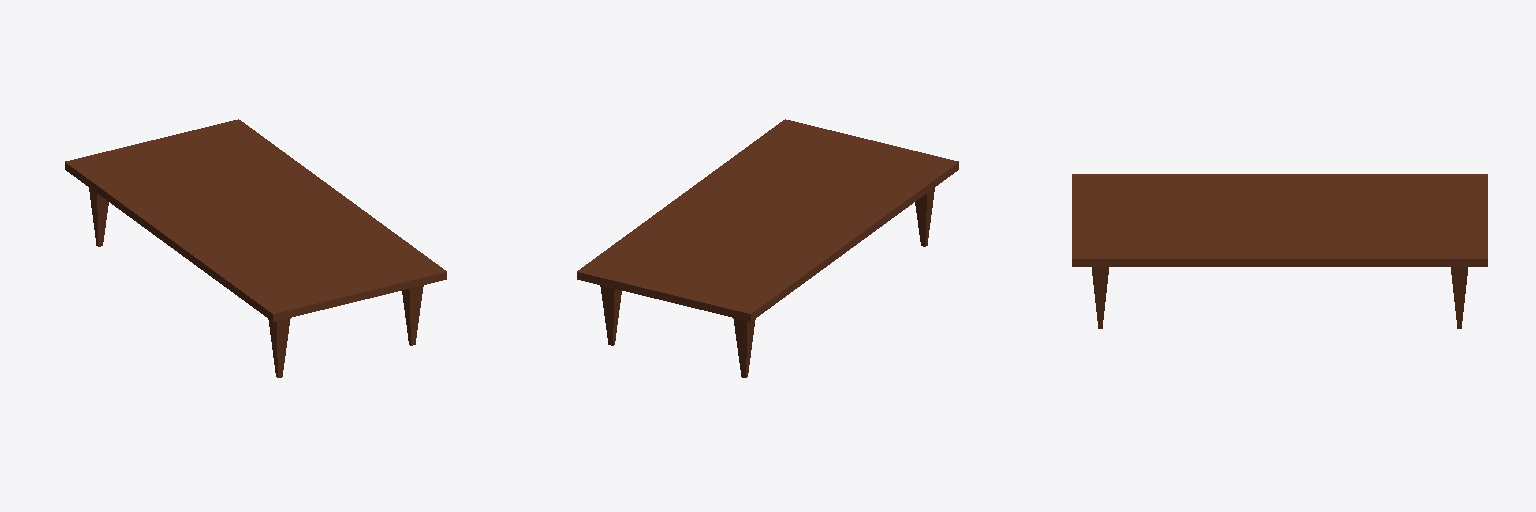
Rendered from table.obj.
The picture shows the model from 3 angles: view 1: azimuth 30°, elevation 25°; view 2: azimuth 150°, elevation 25°; view 3: azimuth 270°, elevation 25°; orthographic projection.
Visible parts, largest first — view 1: pPlane2; view 2: pPlane2; view 3: pPlane2.
Boxes of the visible parts, x1=… form: pPlane2: x1=65, y1=119, x2=446, y2=377; pPlane2: x1=577, y1=119, x2=958, y2=377; pPlane2: x1=1072, y1=174, x2=1487, y2=328.
Bounding box in the file's own units: 6.23 × 2.68 × 12.9.